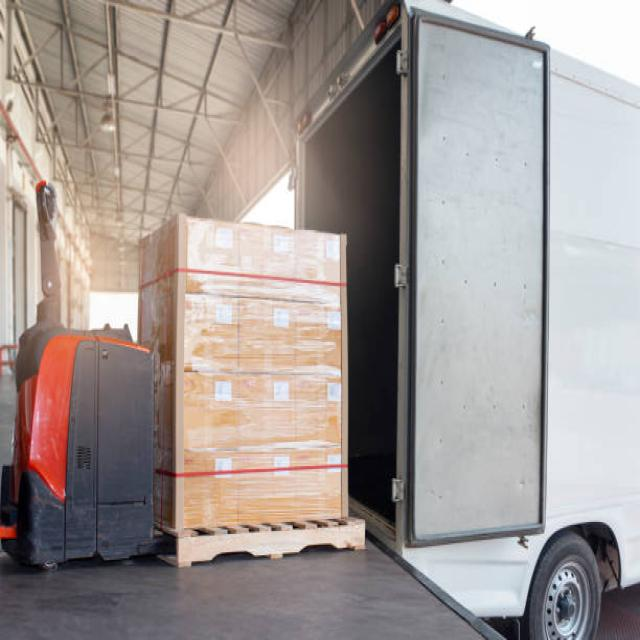Wooden-Pallets: (174, 510, 369, 576)
